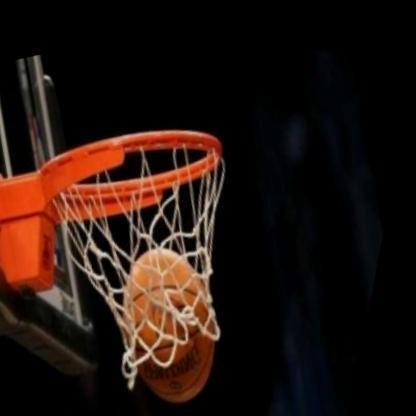basketball: (80, 210, 277, 416)
rim: (6, 78, 297, 359)
